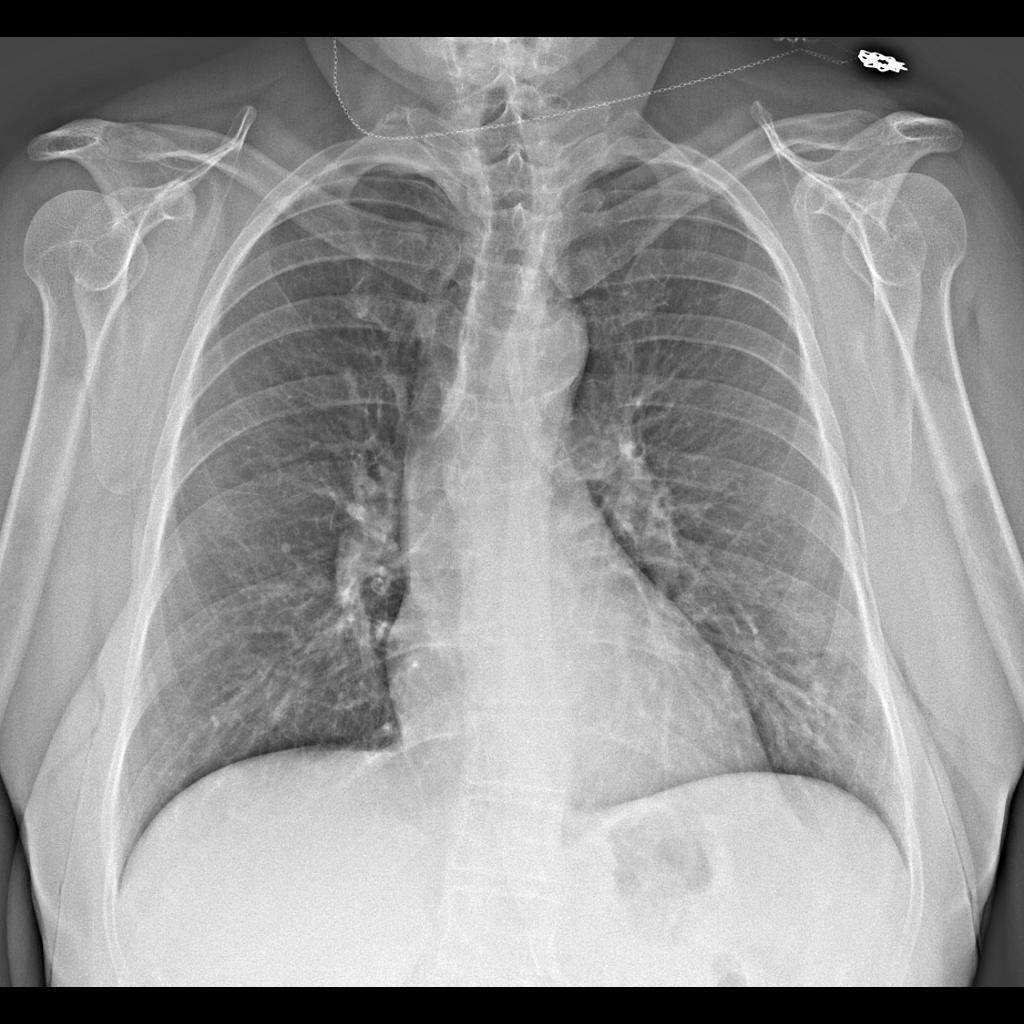Nodule: (807, 675, 837, 708)
